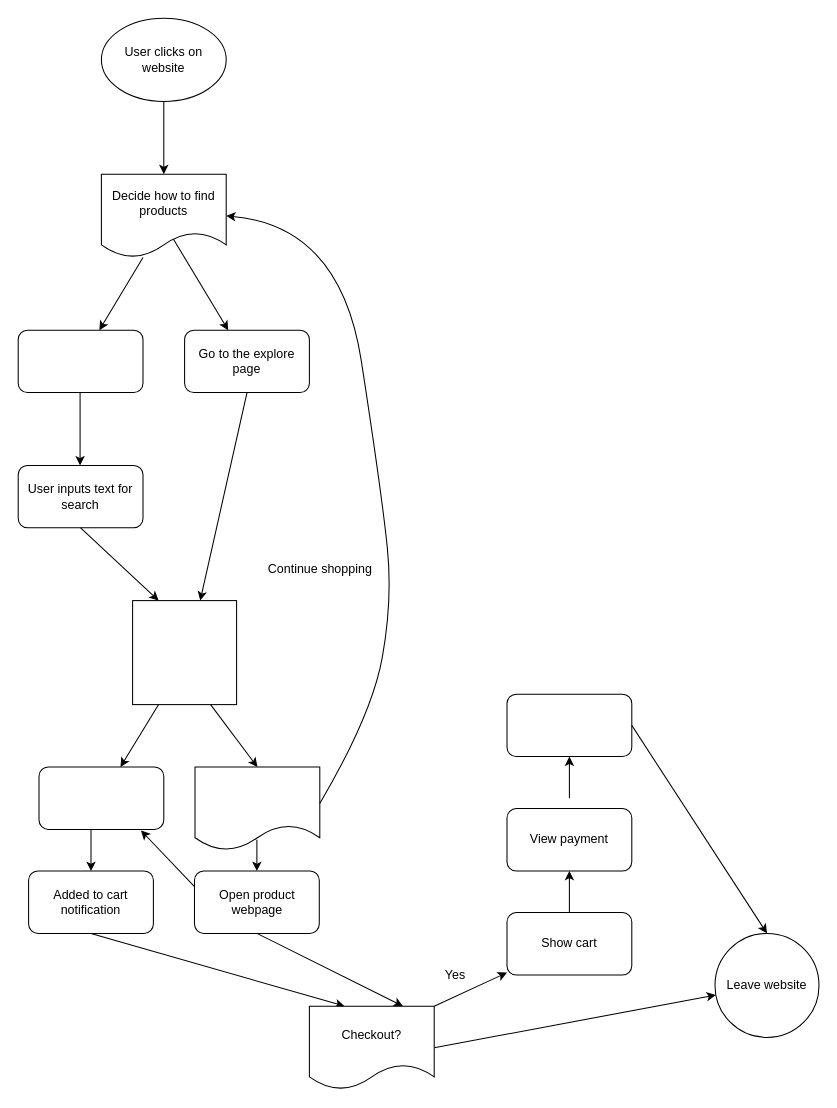
Image size: 837x1108. Some labels were removed from this diagram. The shapes that lost their labels are listed below. From the top down, each one's centre as x and y in pixels, then its label:
(80,361): Search for product
(184,652): Load the results from the previous operation
(569,725): Confirm order/email
(101,797): User adds to cart
(257,808): View specific product
